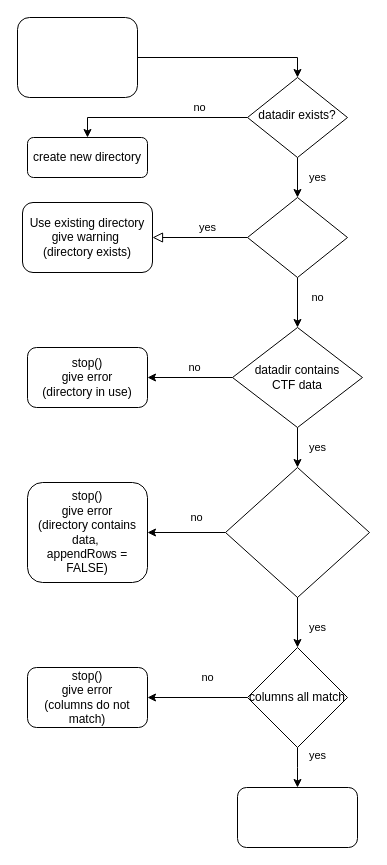
This 387x865 diagram has some shape labels left out. The shapes that lost their labels are listed below. From the top down, each one's centre as x and y in pixels, then its label:
pixel 77 57: Call write.ctf x datadir name appendRows
pixel 297 237: datadir empty?
pixel 297 532: appendRows = TRUE
pixel 297 817: append rows to existing CTF document
